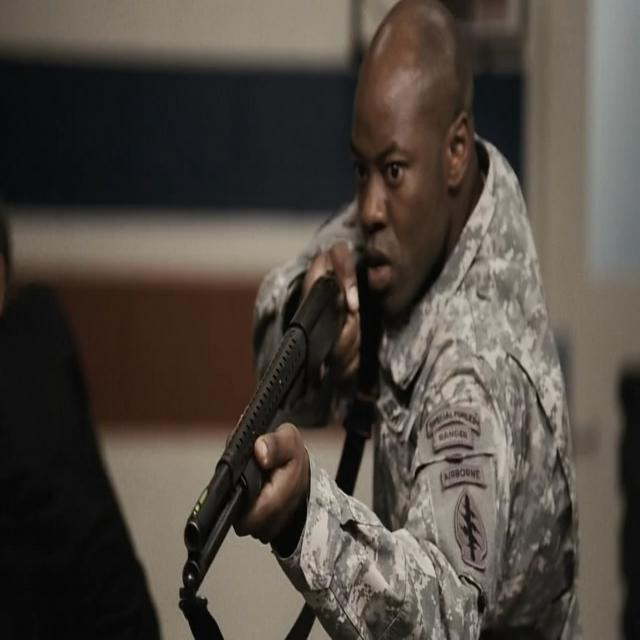gun-knife-thesis - v11 Yolov5 augmented: (181, 252, 362, 596)
